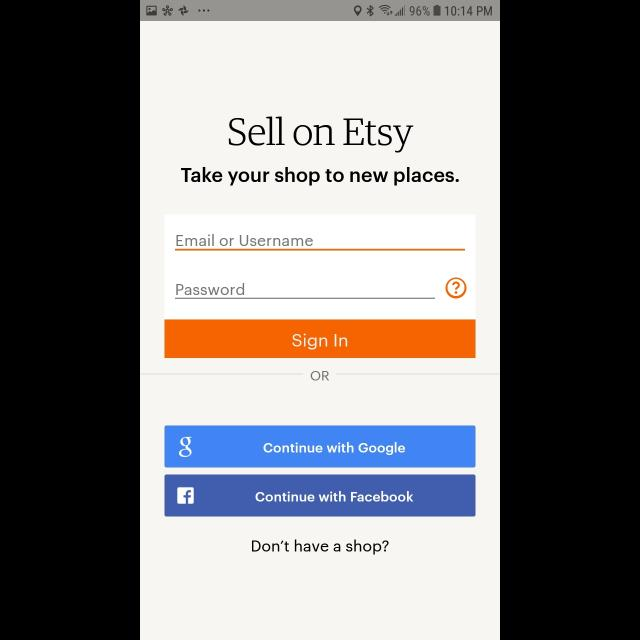icon: (445, 277, 467, 299)
input: (175, 234, 465, 252), (175, 283, 435, 299)
text: (228, 116, 414, 154), (181, 168, 459, 186), (252, 540, 388, 554), (176, 234, 314, 246), (177, 284, 245, 296), (310, 371, 330, 381)
textbutton: (164, 426, 476, 468), (164, 475, 476, 517), (164, 320, 476, 358)
uppertaskbar: (140, 1, 500, 22)
